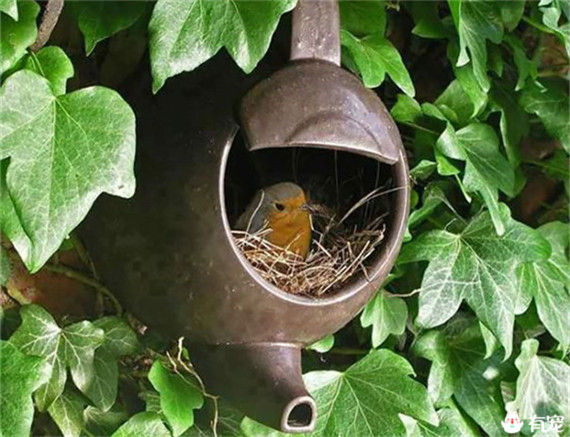bird-nest: (222, 224, 392, 304)
